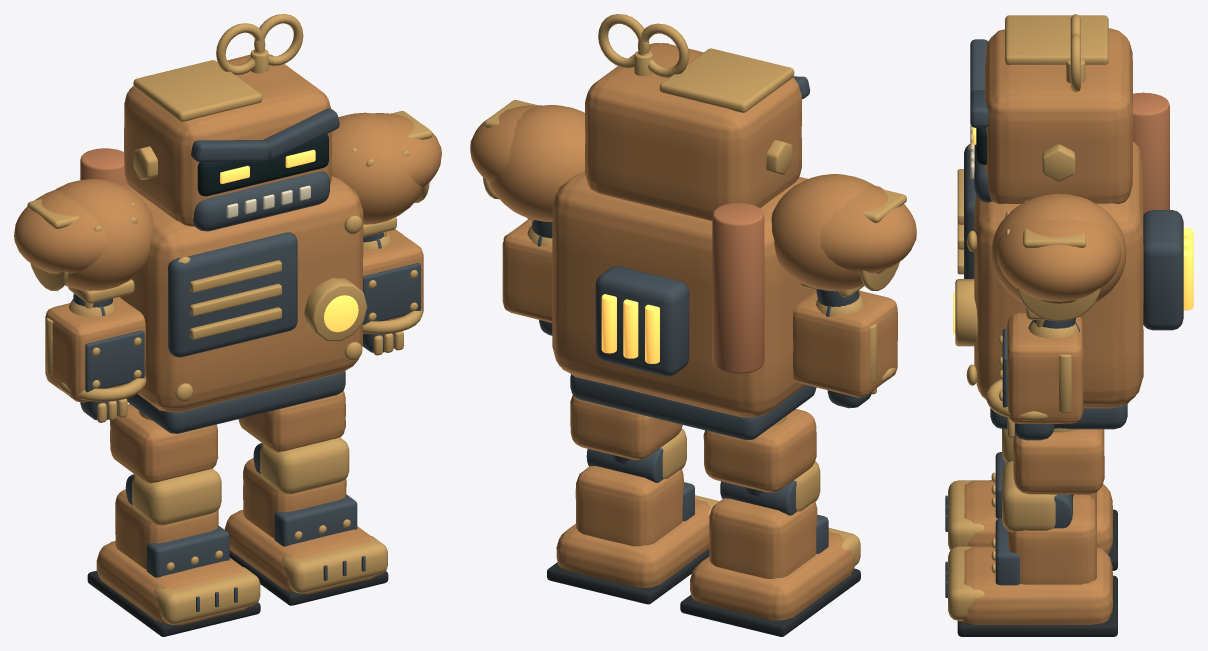
File: scrapyard_bruiser.t4.glb
3 renders of one model, left to right at view 1: azimuth 30°, elevation 25°; view 2: azimuth 150°, elevation 25°; view 3: azimuth 270°, elevation 25°, orthographic. The views are drawn at different scales.
Visible parts, largest first — view 1: slot_torso__clay_ochre_scrap__clay, slot_torso__forged_bluelead_steel__protected, slot_head__clay_ochre_scrap__clay, slot_legL__clay_ochre_scrap__clay, slot_legR__clay_ochre_scrap__clay, slot_armL__clay_ochre_scrap__clay, slot_armR__clay_ochre_scrap__clay, slot_head__worn_warm_brass__protected, slot_legL__worn_warm_brass__protected, slot_legR__worn_warm_brass__protected, slot_head__forged_bluelead_steel__protected, slot_torso__worn_warm_brass__protected (+17 smaller); view 2: slot_torso__clay_ochre_scrap__clay, slot_head__clay_ochre_scrap__clay, slot_legL__clay_ochre_scrap__clay, slot_legR__clay_ochre_scrap__clay, slot_armL__clay_ochre_scrap__clay, slot_torso__forged_bluelead_steel__protected, slot_armR__clay_ochre_scrap__clay, slot_torso__burnished_copper__protected, slot_head__worn_warm_brass__protected, armL_elbow__clay_ochre_scrap__clay, armR_elbow__clay_ochre_scrap__clay, slot_torso__amber_glass__protected (+8 smaller); view 3: slot_head__clay_ochre_scrap__clay, slot_legR__clay_ochre_scrap__clay, slot_torso__clay_ochre_scrap__clay, slot_armR__clay_ochre_scrap__clay, slot_torso__forged_bluelead_steel__protected, slot_head__worn_warm_brass__protected, armR_elbow__clay_ochre_scrap__clay, slot_legR__worn_warm_brass__protected, slot_torso__burnished_copper__protected, slot_armR__worn_warm_brass__protected, slot_legL__clay_ochre_scrap__clay, slot_torso__worn_warm_brass__protected (+11 smaller).
Part boxes in pixels (left/top/right/bottom): slot_torso__clay_ochre_scrap__clay: left=120, top=176, right=363, bottom=412; slot_torso__forged_bluelead_steel__protected: left=126, top=232, right=345, bottom=433; slot_head__clay_ochre_scrap__clay: left=124, top=54, right=331, bottom=226; slot_legL__clay_ochre_scrap__clay: left=96, top=404, right=248, bottom=625; slot_legR__clay_ochre_scrap__clay: left=224, top=390, right=375, bottom=594; slot_armL__clay_ochre_scrap__clay: left=14, top=179, right=153, bottom=290; slot_armR__clay_ochre_scrap__clay: left=331, top=112, right=441, bottom=224; slot_head__worn_warm_brass__protected: left=133, top=14, right=303, bottom=179; slot_legL__worn_warm_brass__protected: left=132, top=410, right=260, bottom=624; slot_legR__worn_warm_brass__protected: left=260, top=437, right=387, bottom=593; slot_head__forged_bluelead_steel__protected: left=191, top=108, right=339, bottom=231; slot_torso__worn_warm_brass__protected: left=175, top=215, right=367, bottom=401; slot_torso__clay_ochre_scrap__clay: left=552, top=171, right=815, bottom=417; slot_head__clay_ochre_scrap__clay: left=585, top=43, right=801, bottom=221; slot_legL__clay_ochre_scrap__clay: left=690, top=409, right=855, bottom=620; slot_legR__clay_ochre_scrap__clay: left=556, top=395, right=711, bottom=587; slot_armL__clay_ochre_scrap__clay: left=771, top=174, right=916, bottom=291; slot_torso__forged_bluelead_steel__protected: left=570, top=266, right=816, bottom=440; slot_armR__clay_ochre_scrap__clay: left=470, top=105, right=585, bottom=221; slot_torso__burnished_copper__protected: left=712, top=203, right=764, bottom=373; slot_head__worn_warm_brass__protected: left=598, top=14, right=794, bottom=174; armL_elbow__clay_ochre_scrap__clay: left=793, top=290, right=897, bottom=397; armR_elbow__clay_ochre_scrap__clay: left=502, top=219, right=552, bottom=322; slot_torso__amber_glass__protected: left=601, top=294, right=659, bottom=363; slot_head__clay_ochre_scrap__clay: left=984, top=28, right=1132, bottom=203; slot_legR__clay_ochre_scrap__clay: left=959, top=429, right=1112, bottom=624; slot_torso__clay_ochre_scrap__clay: left=974, top=141, right=1143, bottom=408; slot_armR__clay_ochre_scrap__clay: left=991, top=193, right=1126, bottom=303; slot_torso__forged_bluelead_steel__protected: left=964, top=144, right=1183, bottom=429; slot_head__worn_warm_brass__protected: left=1005, top=14, right=1108, bottom=181; armR_elbow__clay_ochre_scrap__clay: left=1007, top=313, right=1083, bottom=423; slot_legR__worn_warm_brass__protected: left=948, top=428, right=1076, bottom=620; slot_torso__burnished_copper__protected: left=1133, top=92, right=1169, bottom=214; slot_armR__worn_warm_brass__protected: left=1005, top=200, right=1100, bottom=338; slot_legL__clay_ochre_scrap__clay: left=964, top=480, right=1112, bottom=554; slot_torso__worn_warm_brass__protected: left=955, top=144, right=977, bottom=385.
Size of the model in its own units: 2.54 by 3.18 by 1.24.
